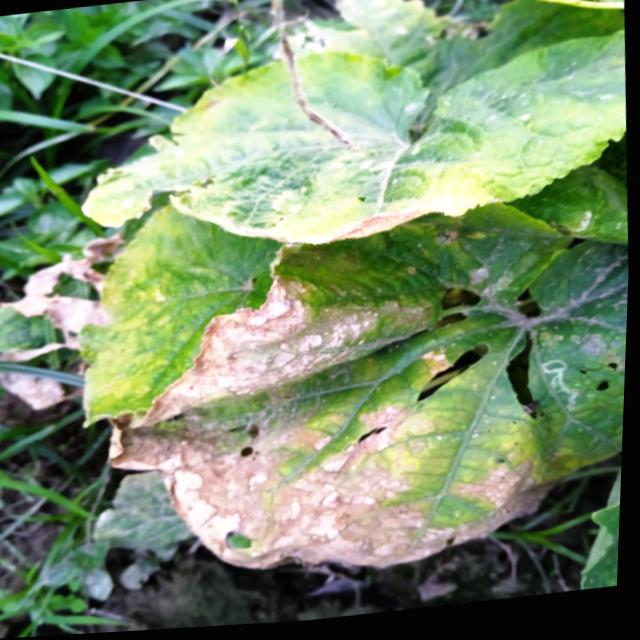Gummy-Stem-Blight: (97, 248, 567, 598)
